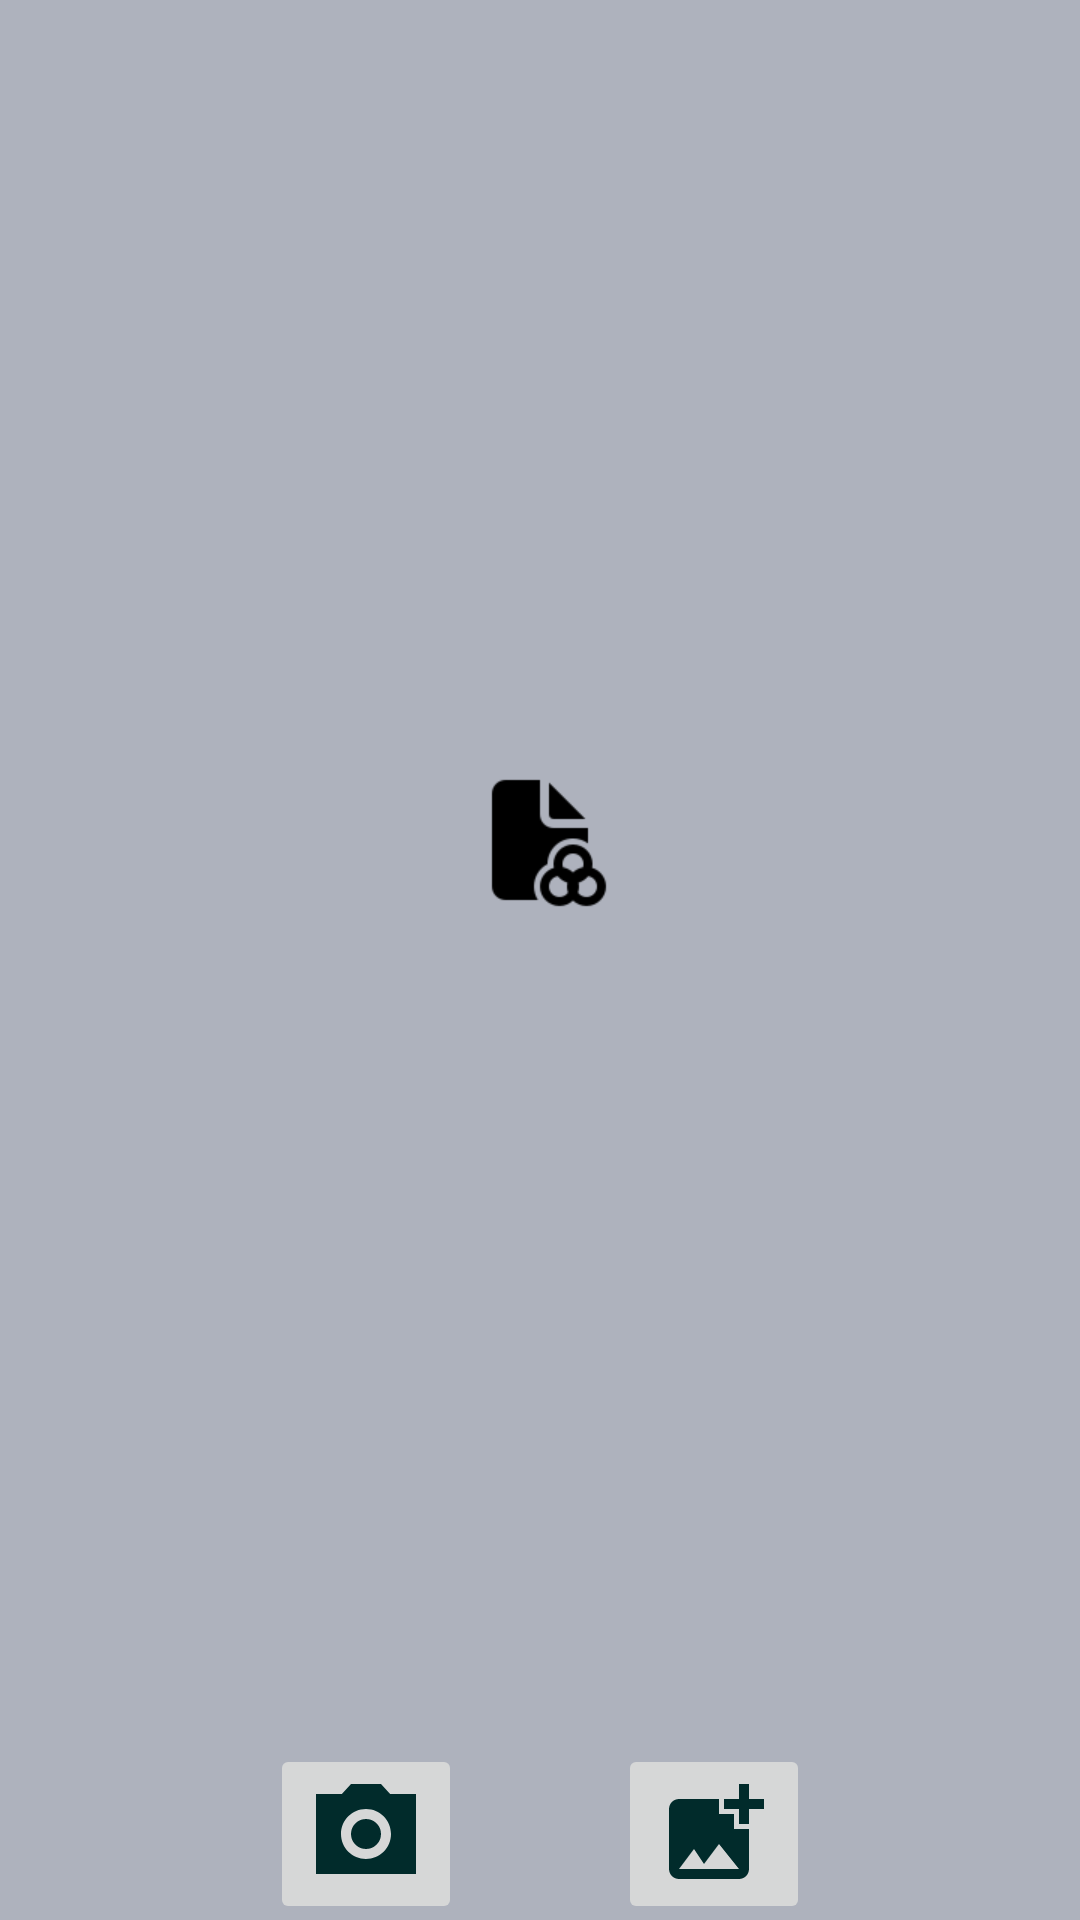

Screen size 1080 x 1920. Icon name, then its center in pixels as (x=x, y=y):
camera: (x=366, y=1834)
import: (x=714, y=1834)
